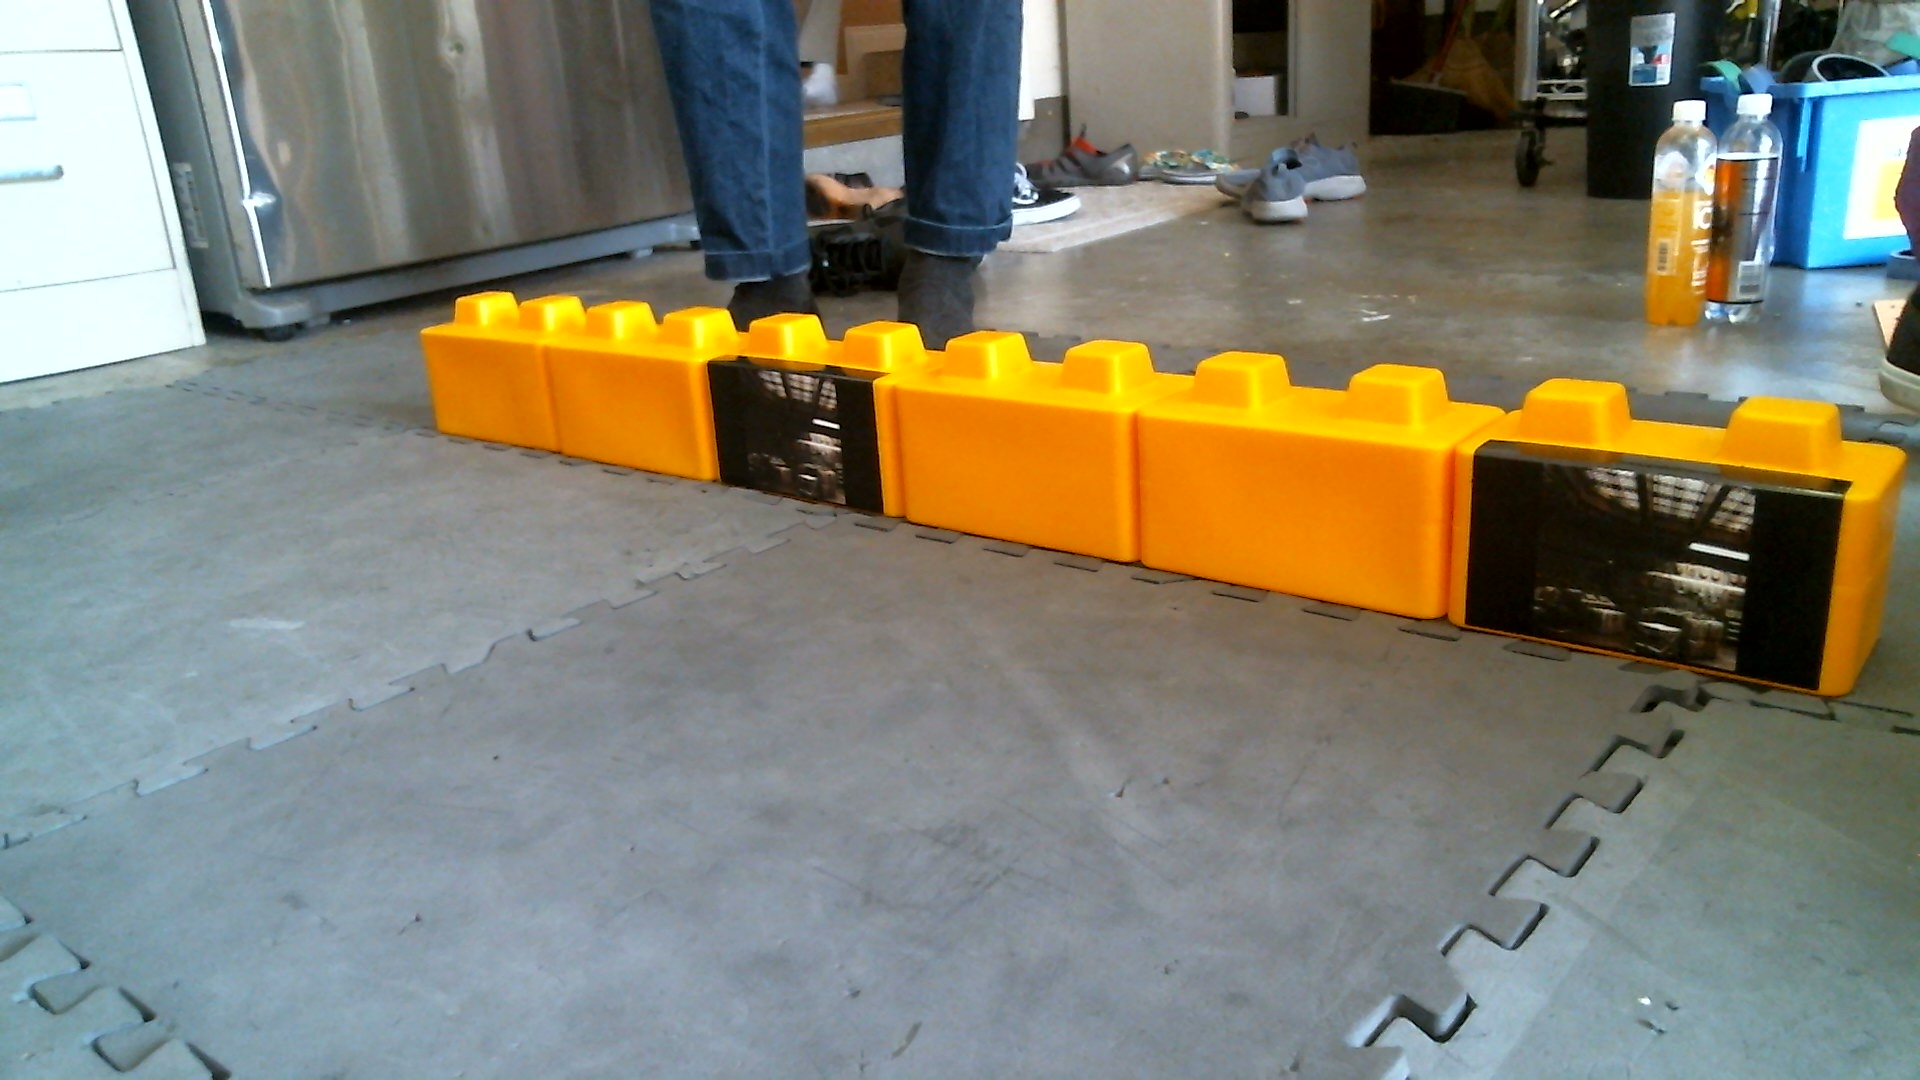skystone: (1456, 369, 1896, 713), (712, 314, 895, 517)
stone: (1142, 351, 1456, 626), (901, 323, 1139, 585), (559, 299, 719, 477), (425, 285, 566, 451)
